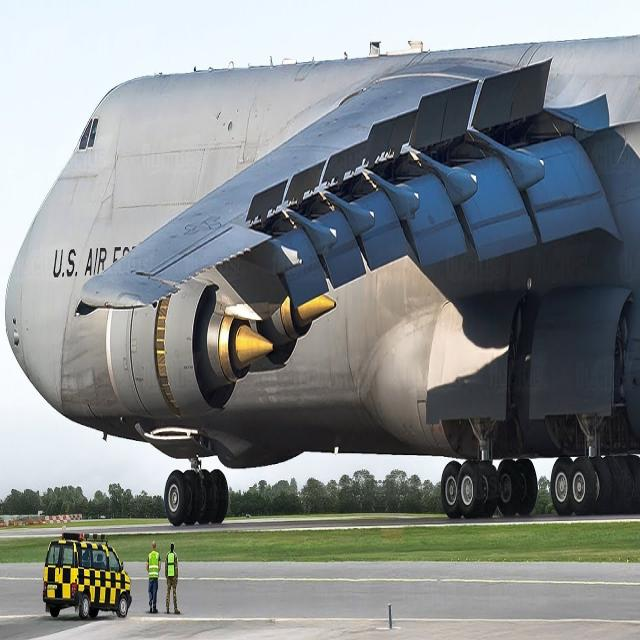C5: (2, 0, 640, 535)
